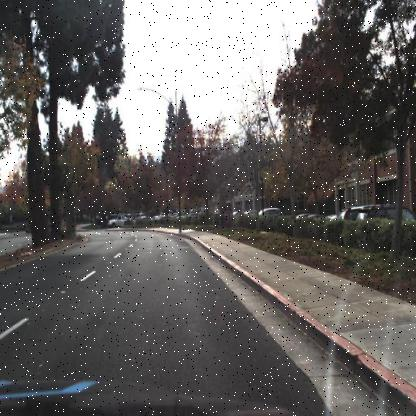car: (105, 211, 132, 229), (258, 206, 285, 221), (257, 206, 283, 216)
